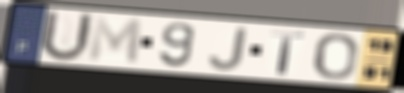9: (157, 22, 197, 68)
J: (206, 26, 250, 72)
M: (86, 14, 144, 66)
O: (312, 32, 360, 81)
T: (269, 29, 307, 77)
U: (38, 8, 97, 64)
